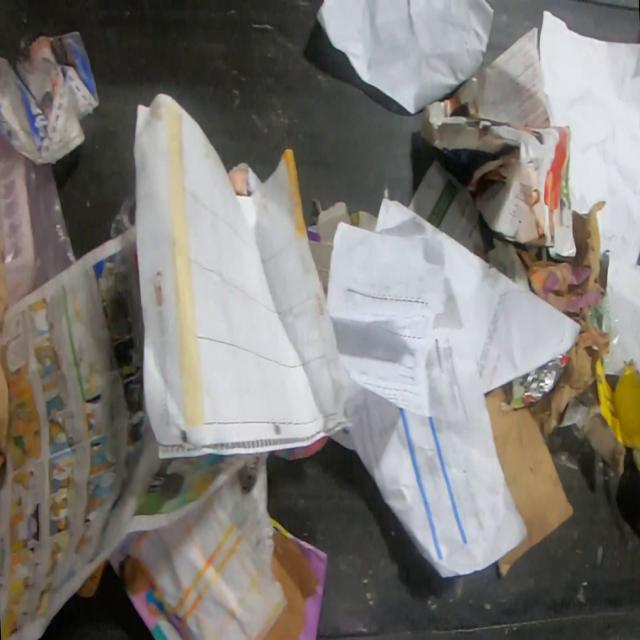cardboard: (485, 385, 576, 580), (582, 355, 640, 478), (307, 196, 377, 296), (546, 128, 578, 263), (519, 353, 570, 406)
soft_plastic: (0, 131, 78, 317), (586, 293, 621, 369)
